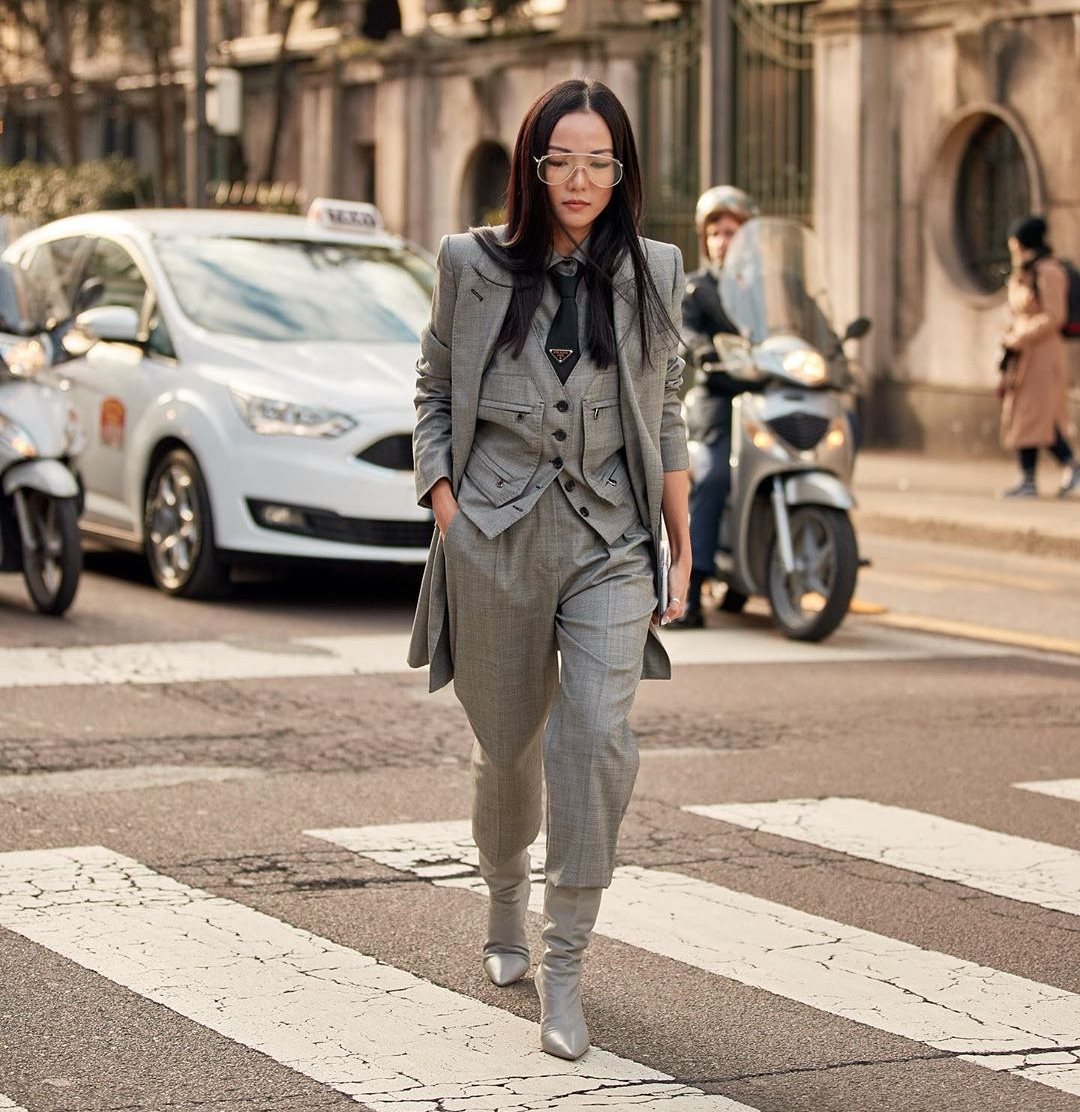glasses: (528, 136, 631, 198)
tie: (539, 254, 588, 378)
